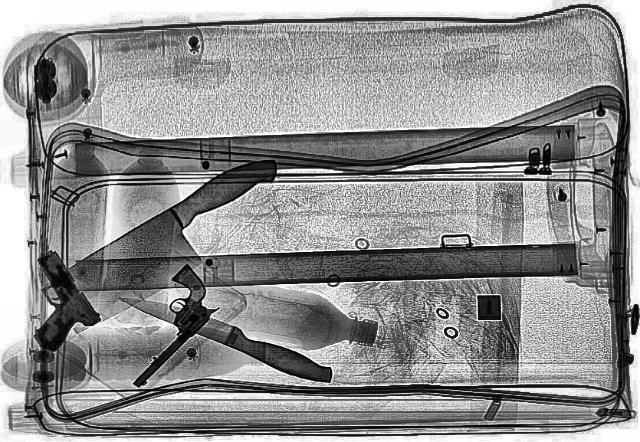Gun: (89, 263, 241, 391), (8, 246, 110, 352)
Knife: (15, 143, 323, 342), (111, 281, 345, 393)
